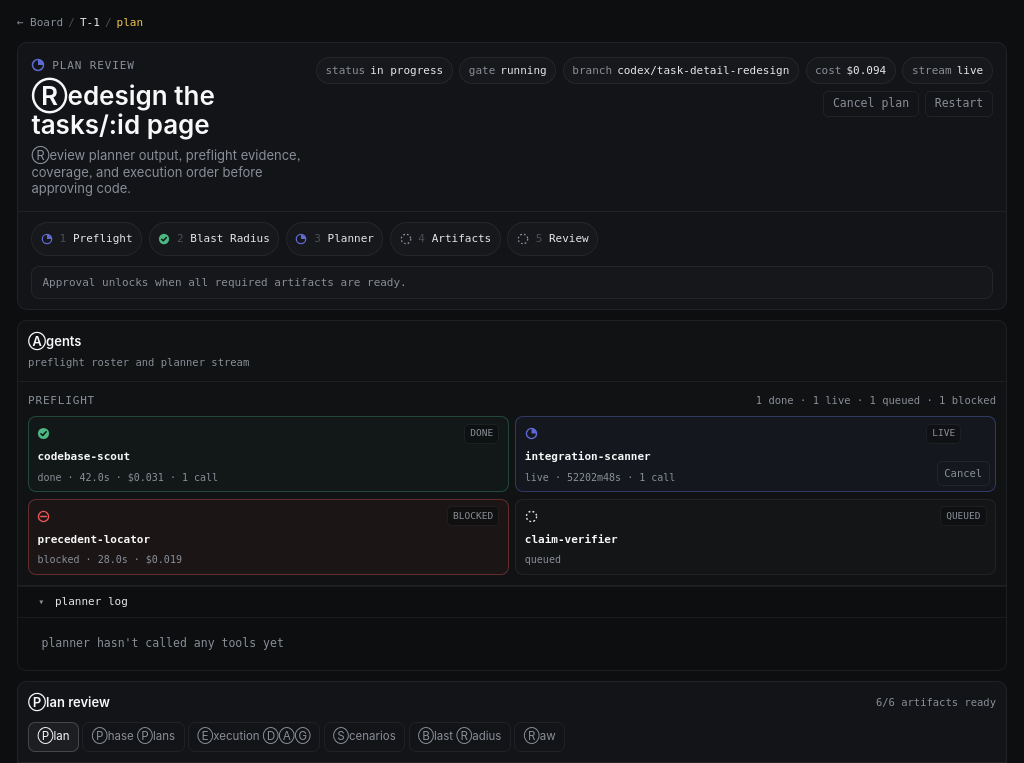
PlanConsole › groups phase plan documents under the plan overview
Step 1. Click the tab "Phase Plans" → x=133, y=737, box [82,722,184,752]
(page scrolled)
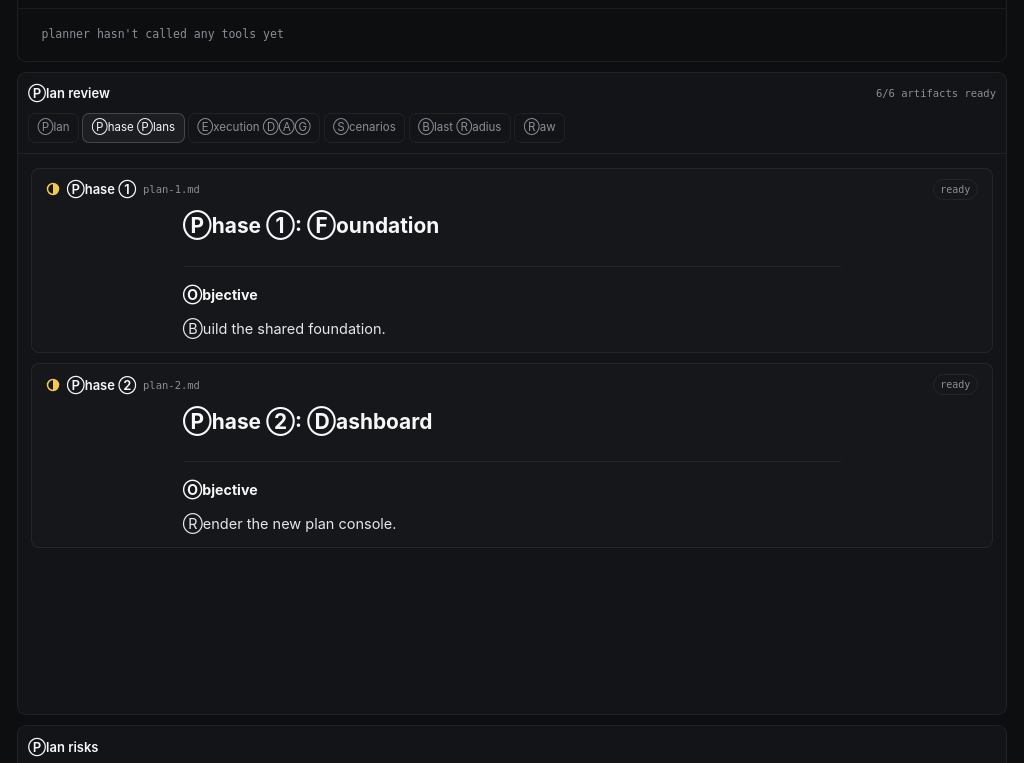
Check: the text "Phase 1" is shown, box [67,179,136,199]
Check: the text "plan-1.md" is shown, box [143,181,200,198]
Check: the text "Phase 2" is shown, box [67,375,136,395]
